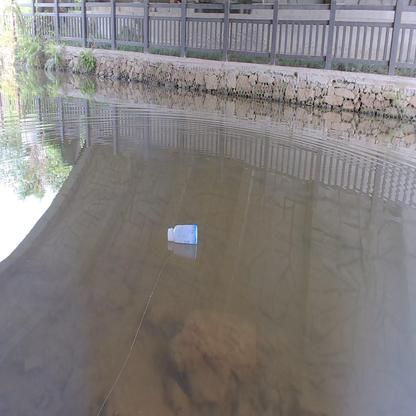plastic bottle: (167, 224, 199, 245)
